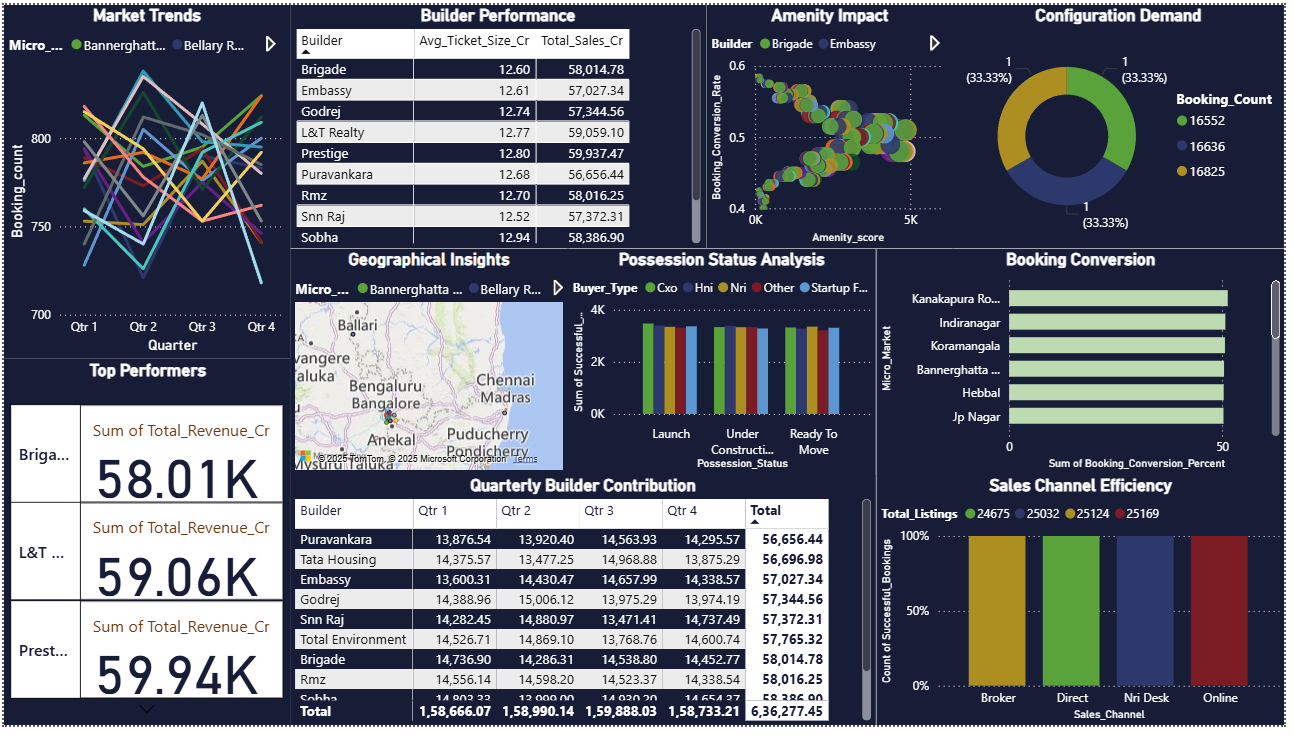

The dashboard page shown, as its layout file describes it:
{"tool":"powerbi","page":{"name":"Page 2","canvas":[1280,720],"ordinal":1},"visuals":[{"type":"lineChart","title":"MARKET TRENDS","fields":{"Y":["Sum(Query1.Booking_Count)"],"Series":["Query1.Micro_Market"],"Category":["Query1.Purchase_Quarter.Variation.Date Hierarchy.Quarter"]},"box":[261,162,264,185],"z":0},{"type":"scatterChart","title":"AMENITY IMPACT","fields":{"Y":["Query3.Booking_Conversion_Rate"],"X":["Sum(Query3.Amenity_Score)"],"Size":["CountNonNull(Query3.Project_Name)"],"Series":["luxhouse_db luxury_housing.Builder"]},"box":[544,163,245,185],"z":1000},{"type":"tableEx","title":"BUILDER PERFORMANCE","fields":{"Values":["Query2.Builder","Query2.Total_Sales_Cr","Query2.Avg_Ticket_Size_Cr"]},"box":[253,348,279,210],"z":2000},{"type":"clusteredBarChart","title":"BOOKING CONVERSION","fields":{"Category":["Query4.Micro_Market"],"Y":["Sum(Query4.Conversion_Rate_Percent)"]},"box":[544,369,245,184],"z":3000},{"type":"pieChart","title":"CONFIGURATION DEMAND","fields":{"Category":["Query5.Booking_Count"],"Y":["CountNonNull(Query5.Configuration)"]},"box":[0,479.8,228.3,203.2],"z":4000},{"type":"map","title":"GEOGRAPHICAL INSIGHTS","fields":{"Series":["Query9.Micro_Market"],"Category":["Query9.Micro_Market"],"Size":["Sum(Query9.Successful_Bookings)"]},"box":[267,584,522,136],"z":5000},{"type":"clusteredColumnChart","title":"POSSESSION STATUS ANALYSIS","fields":{"Category":["Query8.Possession_Status"],"Series":["Query8.Buyer_Type"],"Y":["Sum(Query8.Successful_Bookings)"]},"box":[0,0,158,273],"z":6000},{"type":"columnChart","title":"TOP PERFORMERS","fields":{"Category":["Query10.Builder"],"Y":["Sum(Query10.Total_Revenue_Cr)"],"Series":["Query10.Booking_Count"]},"box":[805.6,566.2,408.3,153.9],"z":7000},{"type":"hundredPercentStackedColumnChart","title":"SALES CHANNEL EFFICIENCY","fields":{"Y":["CountNonNull(Query6.Successful_Bookings)"],"Series":["luxhouse_db luxury_housing.Possession_Status"],"Category":["Query6.Sales_Channel"]},"box":[947,401,220,152],"z":8000},{"type":"pivotTable","title":"QUARTER BUILDER CONTRIBUTION","fields":{"Rows":["Query7.Builder"],"Columns":["Query7.Purchase_Quarter.Variation.Date Hierarchy.Quarter"],"Values":["Sum(Query7.Total_Sales_Cr)"]},"box":[831,195,250,161],"z":9000}]}

Visuals, with their boxes in screenshot pixels (x1, y1, x2, y2), scaled from the page's 1280x720 canvas onto the 1294x737 screenshot:
"MARKET TRENDS" lineChart: bbox(264, 166, 531, 355)
"AMENITY IMPACT" scatterChart: bbox(550, 167, 798, 356)
"BUILDER PERFORMANCE" tableEx: bbox(256, 356, 538, 571)
"BOOKING CONVERSION" clusteredBarChart: bbox(550, 378, 798, 566)
"CONFIGURATION DEMAND" pieChart: bbox(0, 491, 231, 699)
"GEOGRAPHICAL INSIGHTS" map: bbox(270, 598, 798, 736)
"POSSESSION STATUS ANALYSIS" clusteredColumnChart: bbox(0, 0, 160, 279)
"TOP PERFORMERS" columnChart: bbox(814, 580, 1227, 736)
"SALES CHANNEL EFFICIENCY" hundredPercentStackedColumnChart: bbox(957, 410, 1180, 566)
"QUARTER BUILDER CONTRIBUTION" pivotTable: bbox(840, 200, 1093, 364)
